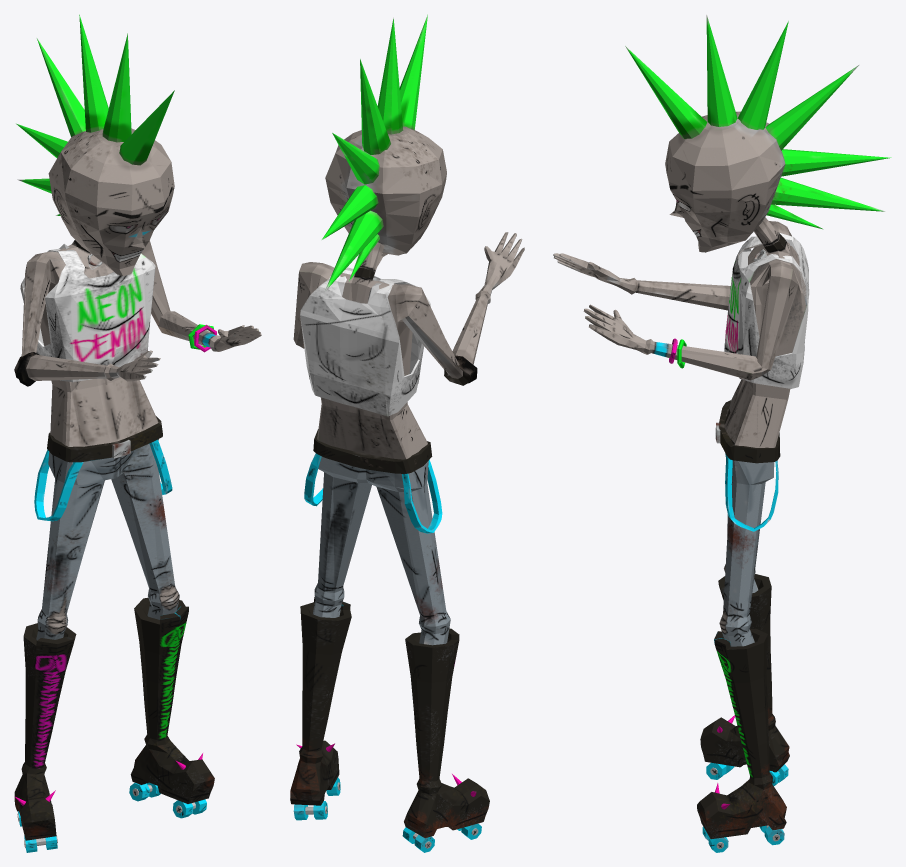
File: punkAnimation_000026.obj
3 renders of one model, left to right at view 1: azimuth 30°, elevation 25°; view 2: azimuth 150°, elevation 25°; view 3: azimuth 270°, elevation 25°, orthographic.
Parts seen in each view (by area): view 1: Cube.004_Cube.003; view 2: Cube.004_Cube.003; view 3: Cube.004_Cube.003.
Part boxes in pixels (bbox=[...]): Cube.004_Cube.003: bbox=[14, 14, 261, 852]; Cube.004_Cube.003: bbox=[290, 14, 524, 852]; Cube.004_Cube.003: bbox=[553, 15, 891, 852].
Size of the model in its own units: 1.85 by 7.55 by 2.89.
